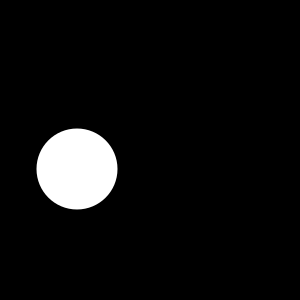rectangle: (36, 128, 118, 210)
